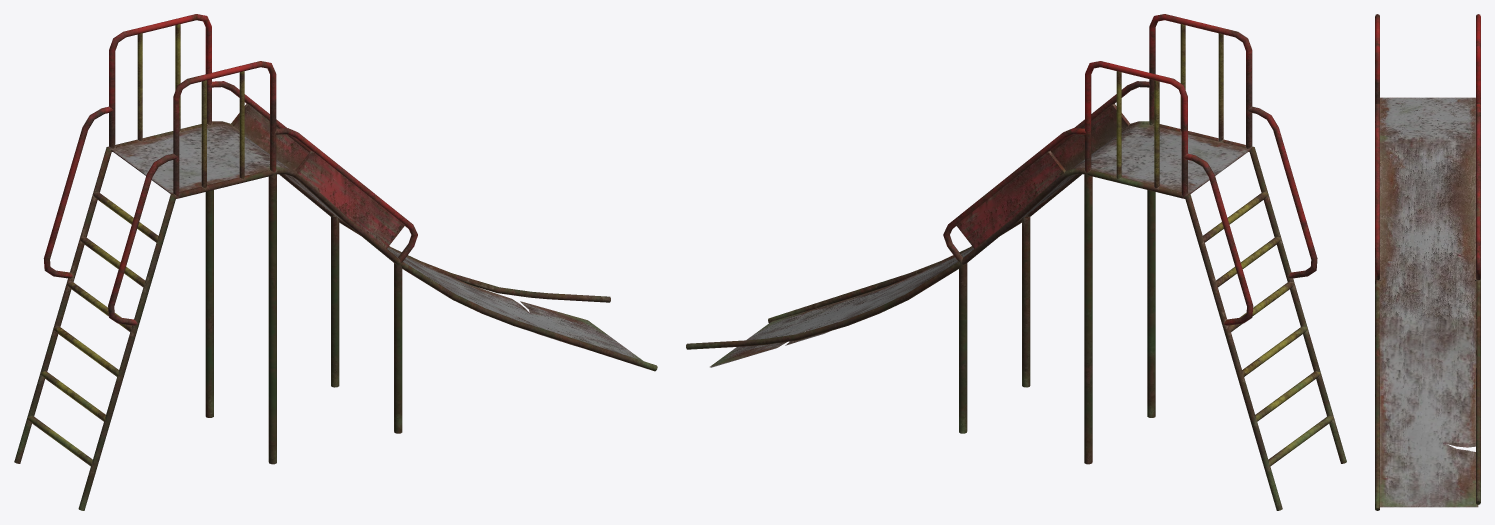
File: abandoned_childrens_slide-opt.glb
The picture shows the model from 3 angles, left to right: view 1: azimuth 30°, elevation 25°; view 2: azimuth 150°, elevation 25°; view 3: azimuth 270°, elevation 25°; orthographic projection. The views are drawn at different scales.
Parts seen in each view (by area): view 1: Plane004__0; view 2: Plane004__0; view 3: Plane004__0.
Part boxes in pixels (x1,y1,x2,y2): Plane004__0: (14,14,657,510); Plane004__0: (686,14,1346,510); Plane004__0: (1375,14,1480,510).
Size of the model in its own units: 3.21 by 2.09 by 0.6302.
Materials: 1 (1 with a texture image).
